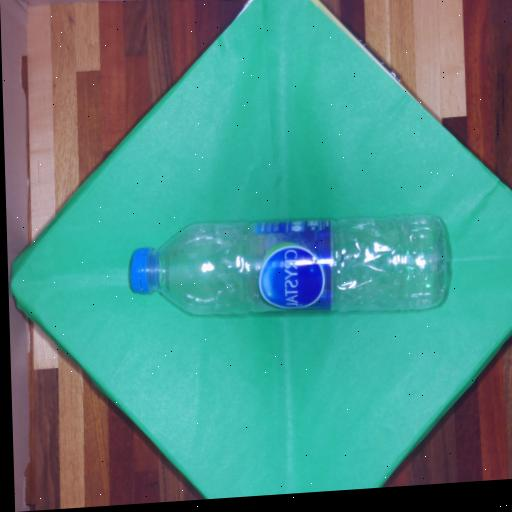bottle: (129, 216, 445, 314)
